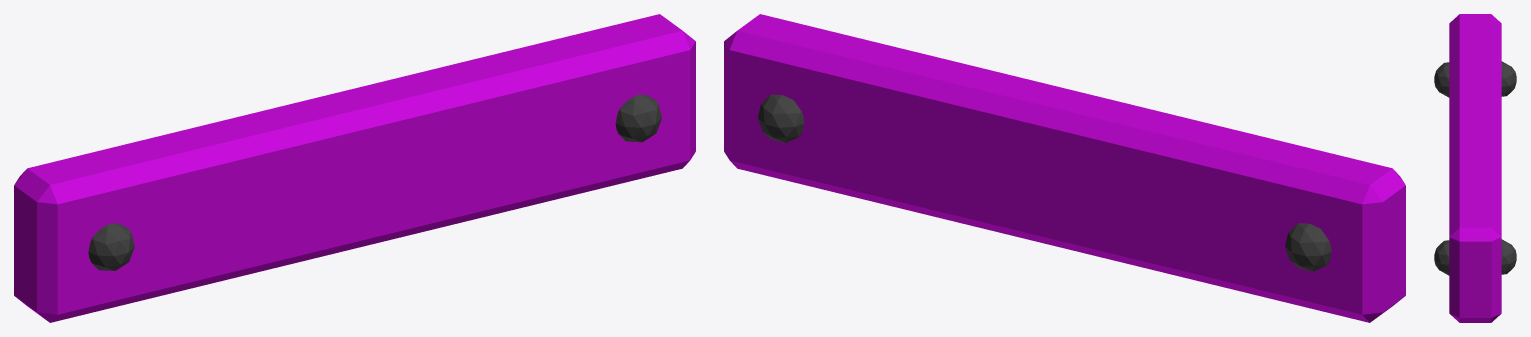
File: BarIA.fbx
3 renders of one model, left to right at view 1: azimuth 30°, elevation 25°; view 2: azimuth 150°, elevation 25°; view 3: azimuth 270°, elevation 25°, orthographic. The views are drawn at different scales.
Parts seen in each view (by area): view 1: BarIA; view 2: BarIA; view 3: BarIA.
Boxes of the visible parts, left/top/right/bottom form: BarIA: left=14, top=14, right=695, bottom=322; BarIA: left=724, top=14, right=1405, bottom=322; BarIA: left=1434, top=14, right=1516, bottom=322.
Bounding box in the file's own units: 1000 × 200 × 157.
